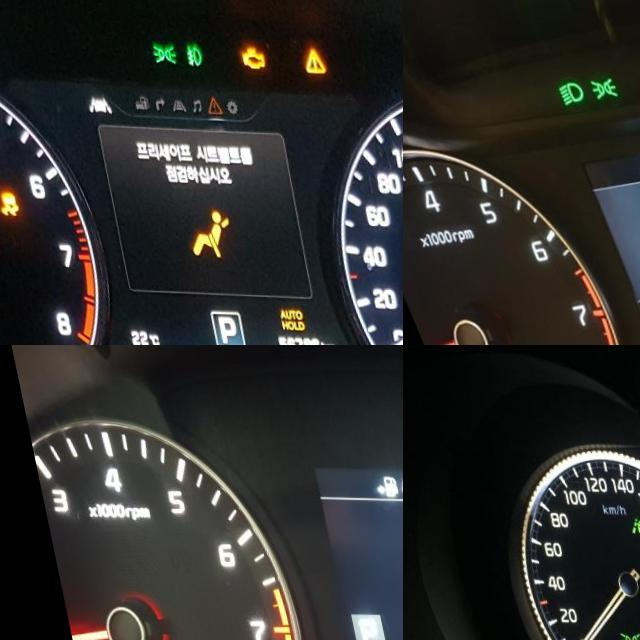Central Warning lamp: (294, 46, 320, 71)
FrontFogLight: (179, 42, 198, 65)
Low beam: (544, 77, 578, 105)
SideLamp: (576, 72, 609, 99), (145, 42, 173, 63), (599, 630, 625, 640)
